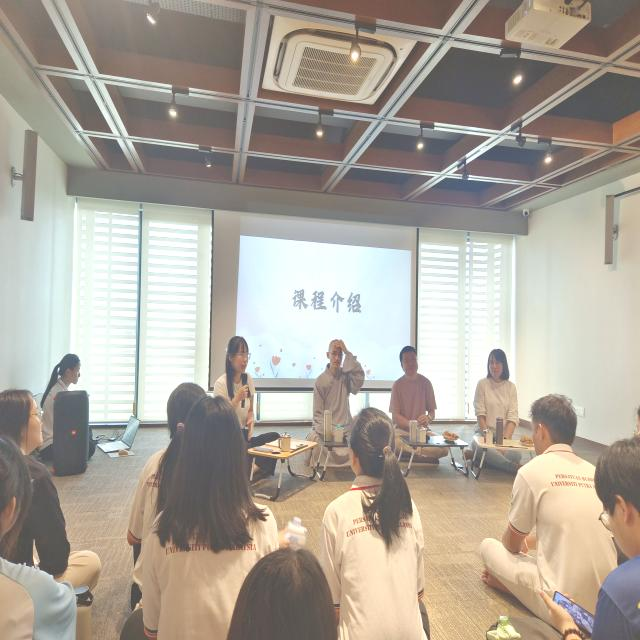person_without_labcoat: (125, 382, 278, 640), (479, 394, 616, 626), (321, 408, 427, 640), (214, 336, 277, 446), (309, 339, 365, 441), (38, 354, 81, 459), (473, 349, 519, 438), (389, 348, 436, 429), (486, 449, 522, 473), (305, 451, 347, 467)
